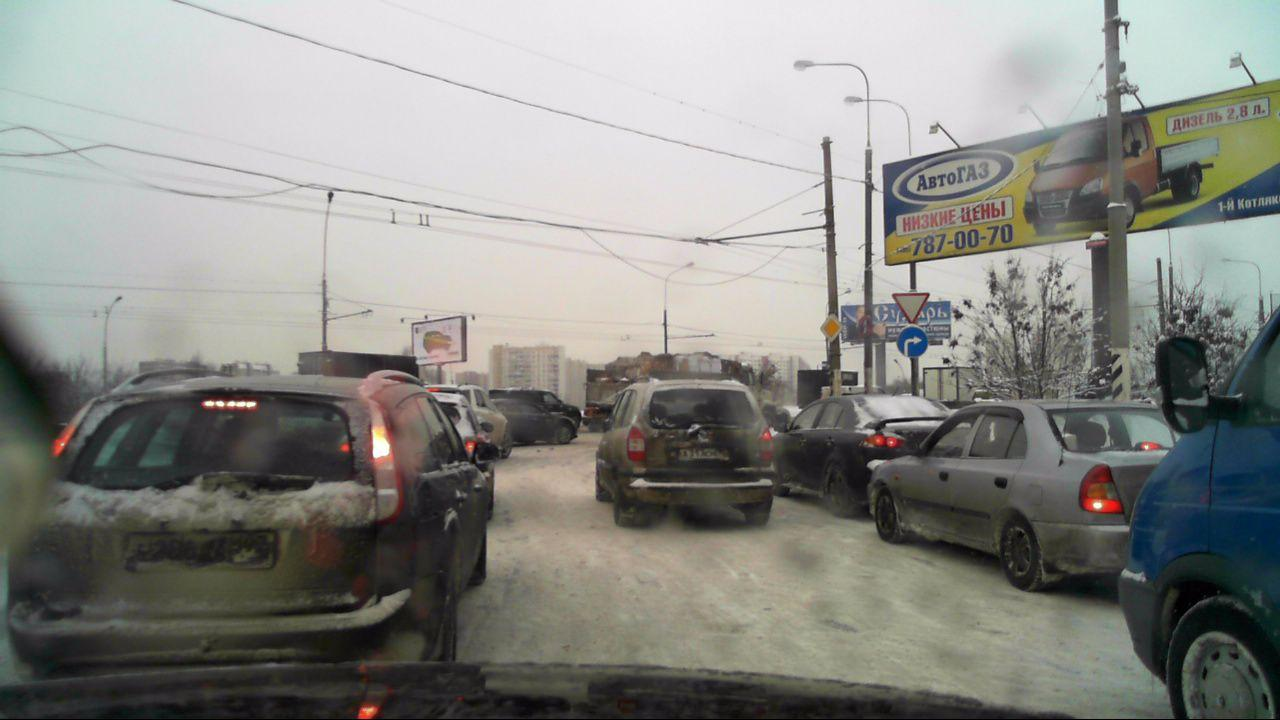2_1: (819, 315, 845, 341)
2_4: (890, 292, 930, 325)
3_29: (858, 315, 875, 335)
4_1_2: (896, 326, 928, 358)
